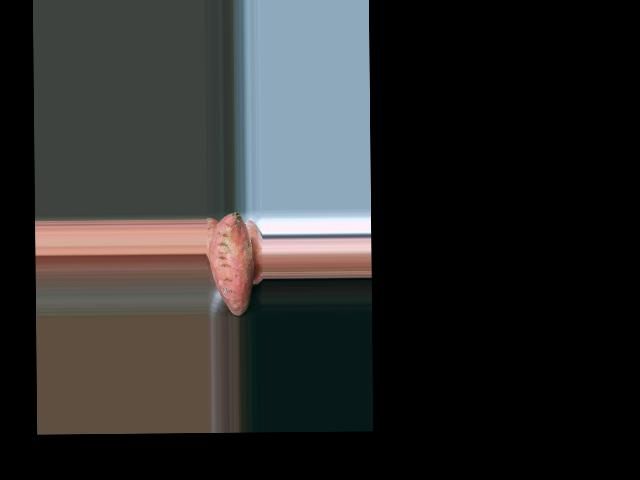sweet_potato: (212, 212, 249, 315)
